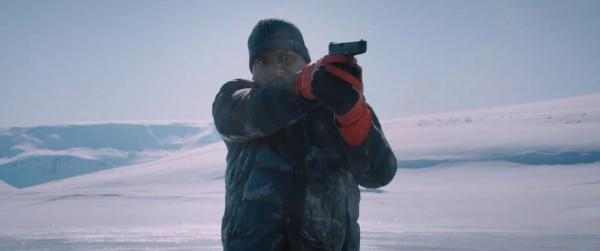Gun: (328, 39, 368, 56)
